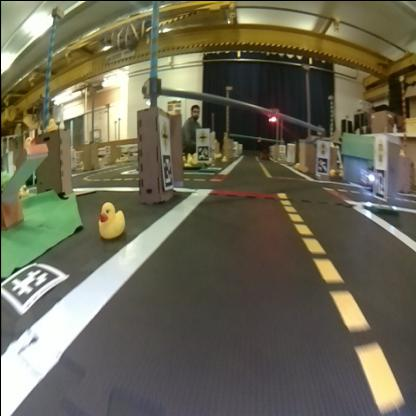Duckie: (97, 200, 125, 238)
Intersection sign: (160, 119, 170, 150), (198, 128, 208, 142)
QR code: (2, 262, 64, 312), (162, 157, 174, 188), (375, 170, 387, 197), (318, 158, 329, 172), (198, 145, 209, 159)
Signal sign: (316, 140, 330, 154)
Traffic light: (268, 106, 276, 120)
